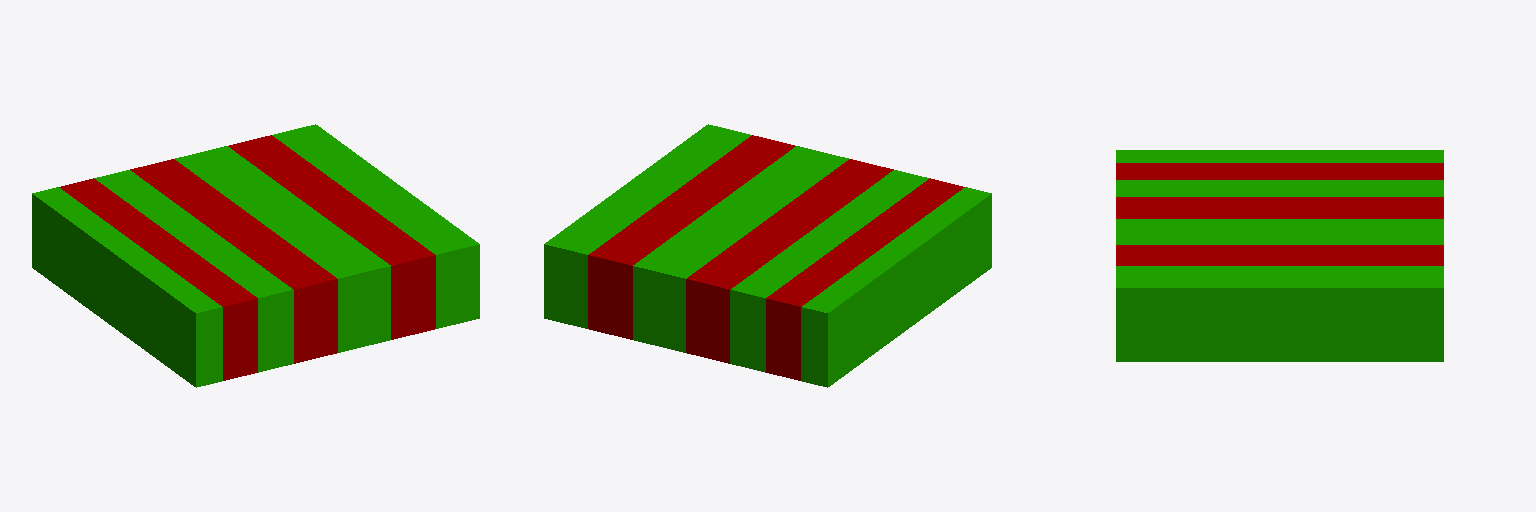
3 renders of one model, left to right at view 1: azimuth 30°, elevation 25°; view 2: azimuth 150°, elevation 25°; view 3: azimuth 270°, elevation 25°, orthographic.
Parts seen in each view (by area): view 1: object 1; view 2: object 1; view 3: object 1.
Boxes of the visible parts, x1,y1,x2,y2 form: object 1: [32, 124, 479, 387]; object 1: [544, 124, 991, 387]; object 1: [1116, 150, 1443, 361].
Bounding box in the file's own units: 3.2 × 0.8 × 3.2.
Materials: 1 (1 with a texture image).